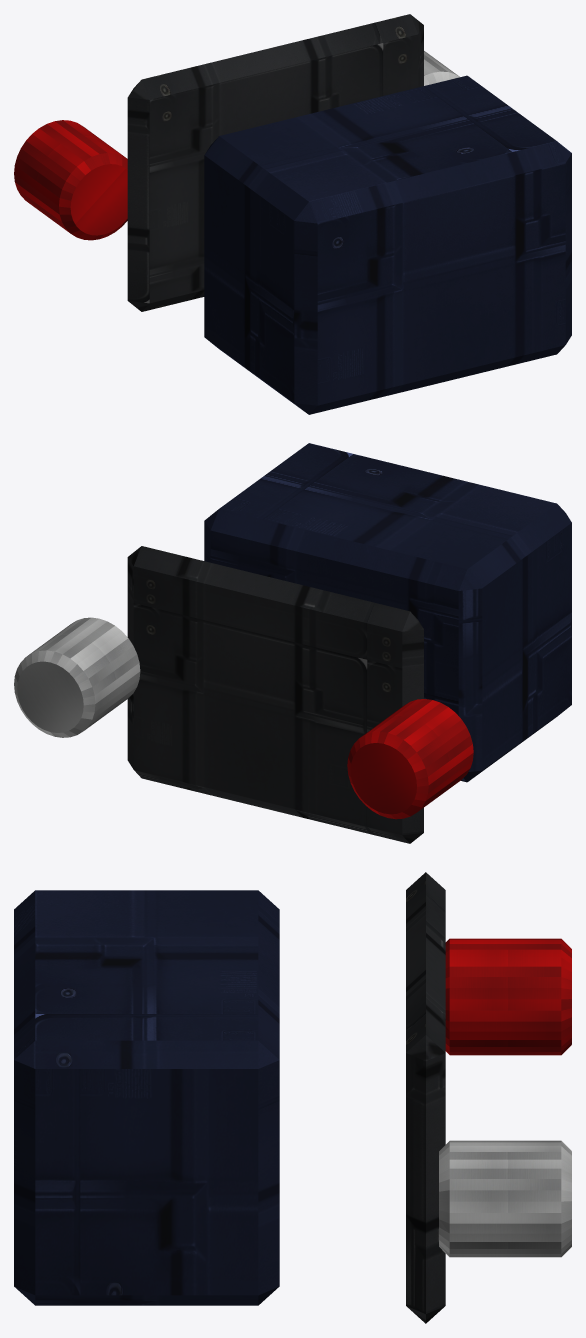
File: battery.glb
The picture shows the model from 3 angles, top to bottom: view 1: azimuth 30°, elevation 25°; view 2: azimuth 150°, elevation 25°; view 3: azimuth 270°, elevation 25°; orthographic projection. The views are drawn at different scales.
Parts seen in each view (by area): view 1: battery_body, battery_lid, battery_terminal_pos, battery_terminal_neg; view 2: battery_body, battery_lid, battery_terminal_neg, battery_terminal_pos; view 3: battery_body, battery_lid, battery_terminal_neg, battery_terminal_pos.
Boxes of the visible parts, x1,y1,x2,y2 form: battery_body: (204, 75, 571, 414); battery_lid: (127, 14, 423, 311); battery_terminal_pos: (14, 120, 127, 240); battery_terminal_neg: (424, 51, 459, 85); battery_body: (204, 443, 571, 782); battery_lid: (127, 546, 423, 843); battery_terminal_neg: (14, 617, 140, 737); battery_terminal_pos: (347, 699, 473, 819); battery_body: (14, 890, 279, 1305); battery_lid: (406, 872, 445, 1323); battery_terminal_neg: (439, 1140, 571, 1257); battery_terminal_pos: (445, 938, 571, 1055).
Bounding box in the file's own units: 0.224 × 0.12 × 0.21.
4 materials, 4 textured.
